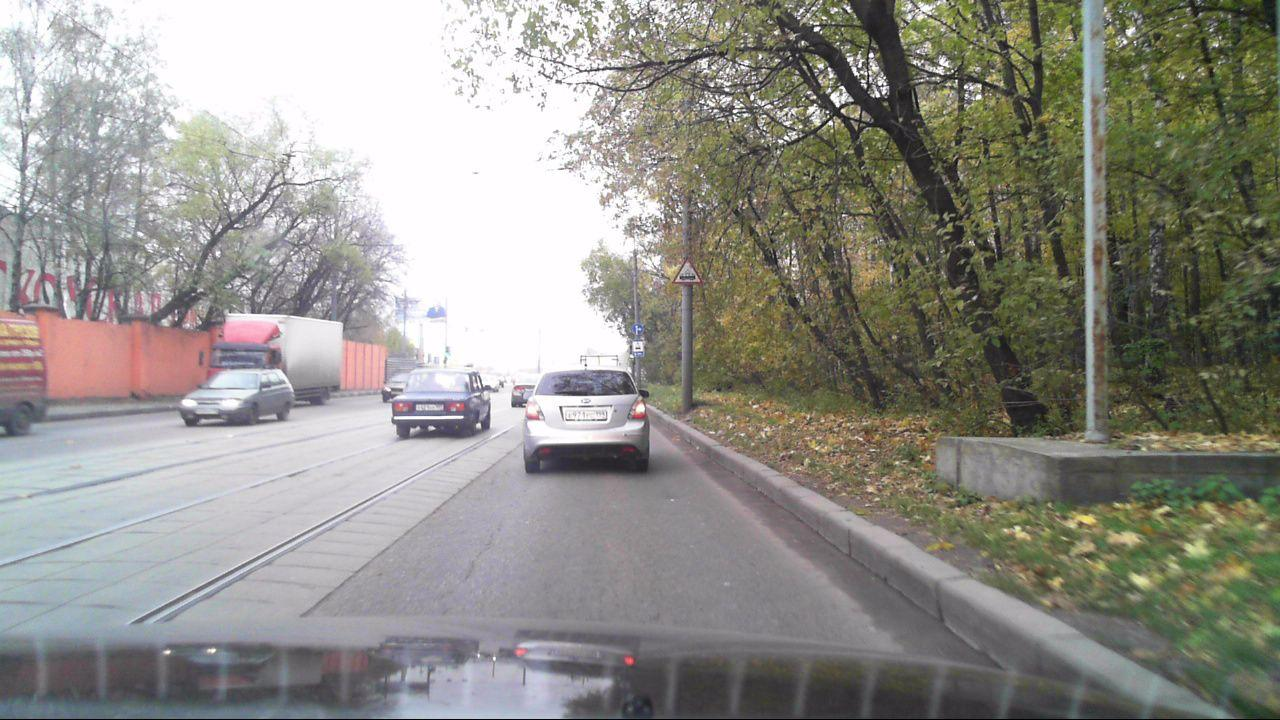1_5: (672, 257, 701, 284)
